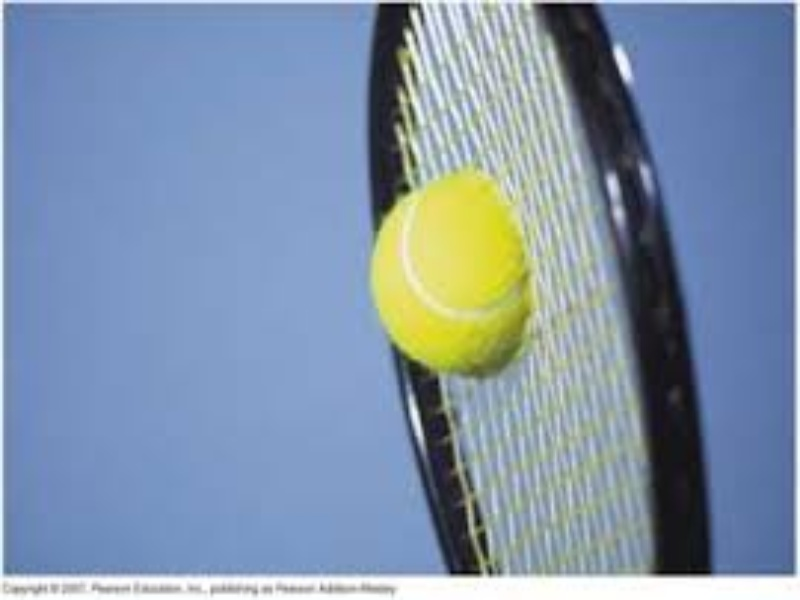tennis ball: (359, 176, 553, 396)
